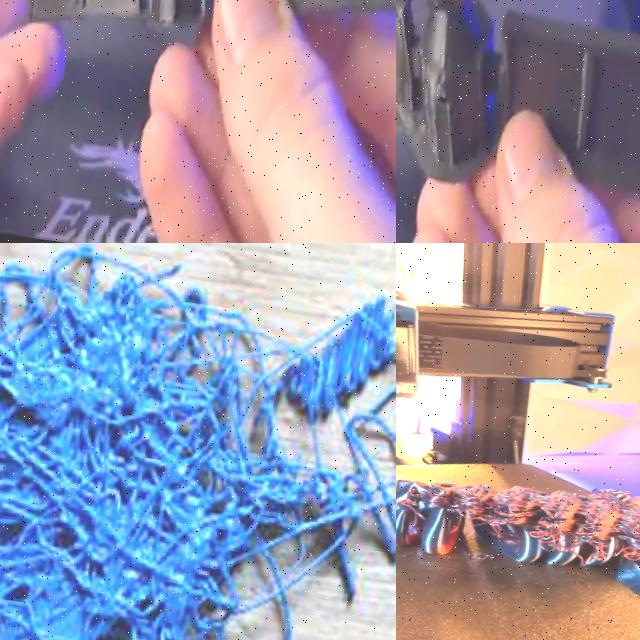spaghetti: (0, 243, 396, 640), (426, 476, 640, 596)
